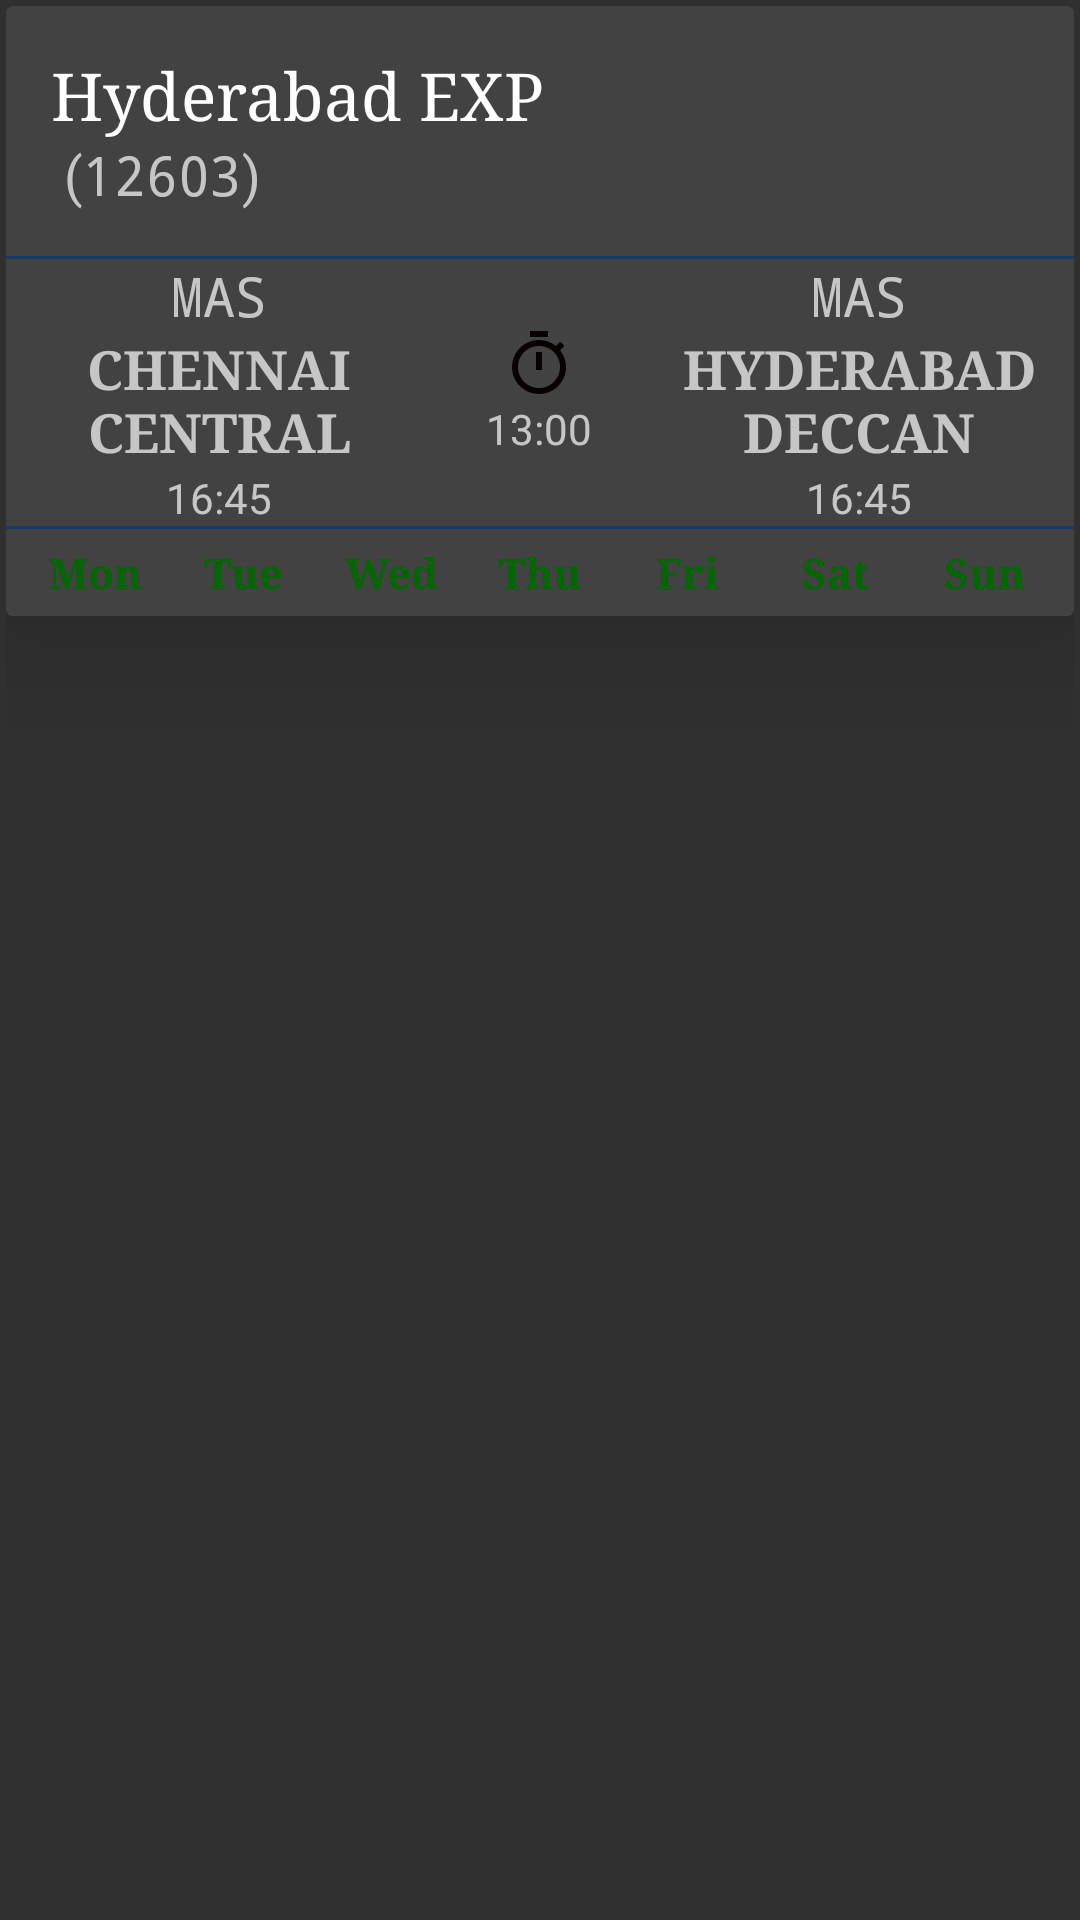

Icon bounding boxes for this 1080px x 1920px phone screenshot, format (left=x1, top=y1, right=x2, bottom=y2):
timer: (left=512, top=331, right=566, bottom=394)
